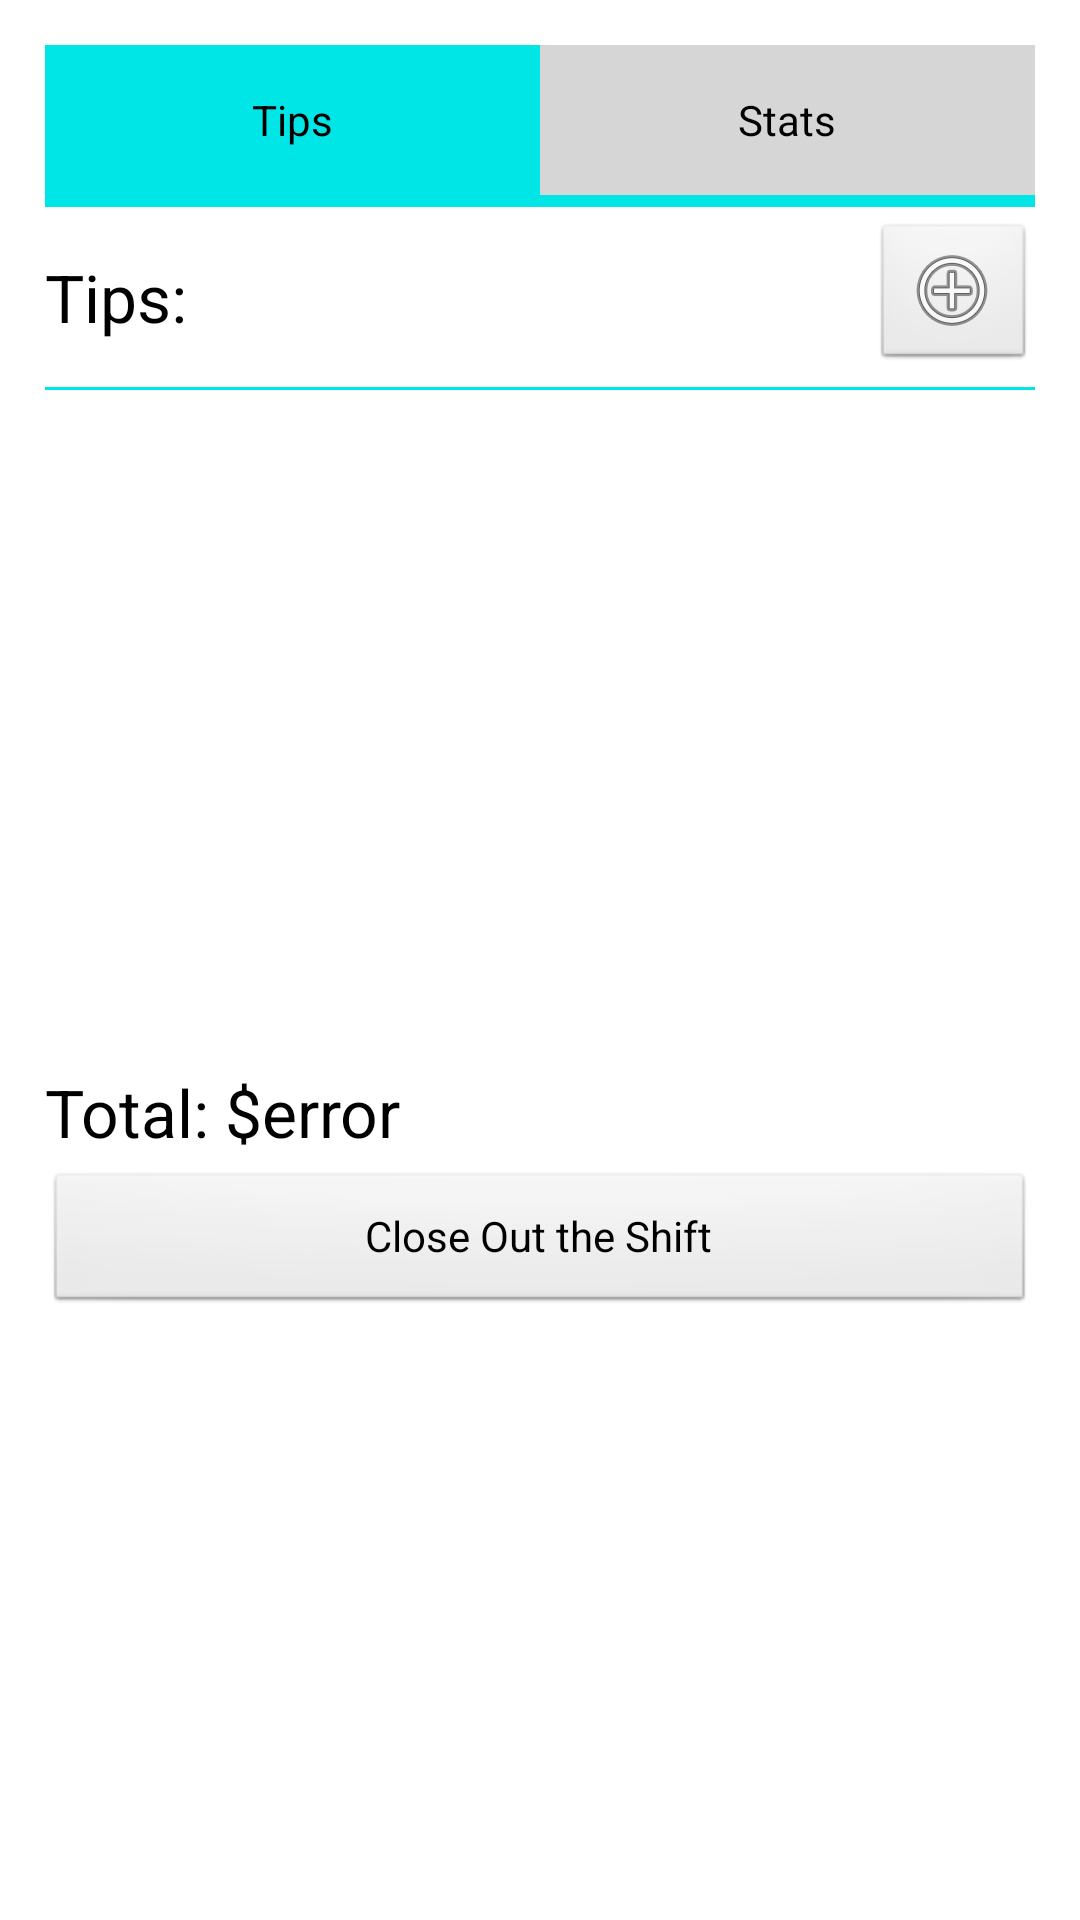

Locate icon controls on the screen. Image size 1080px x 1920px, boxes as (left=x1, top=y1, right=x2, bottom=y2).
Button for adding a new shift or new tip: (left=880, top=224, right=1027, bottom=360)
